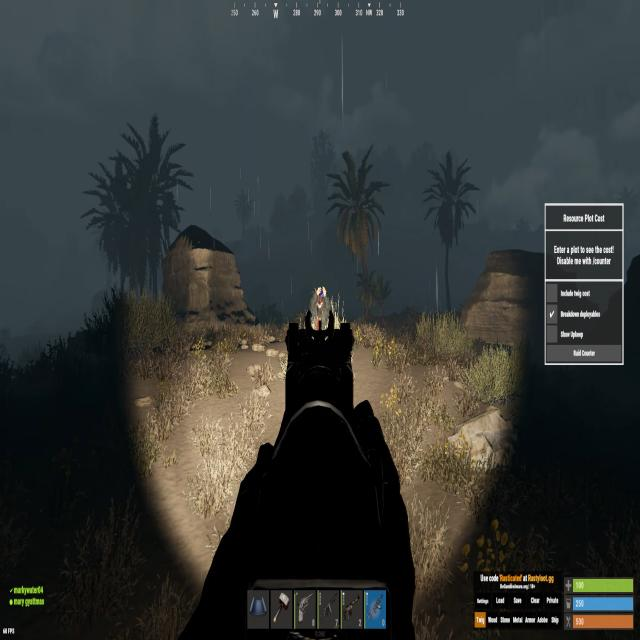Player: (308, 284, 334, 329)
